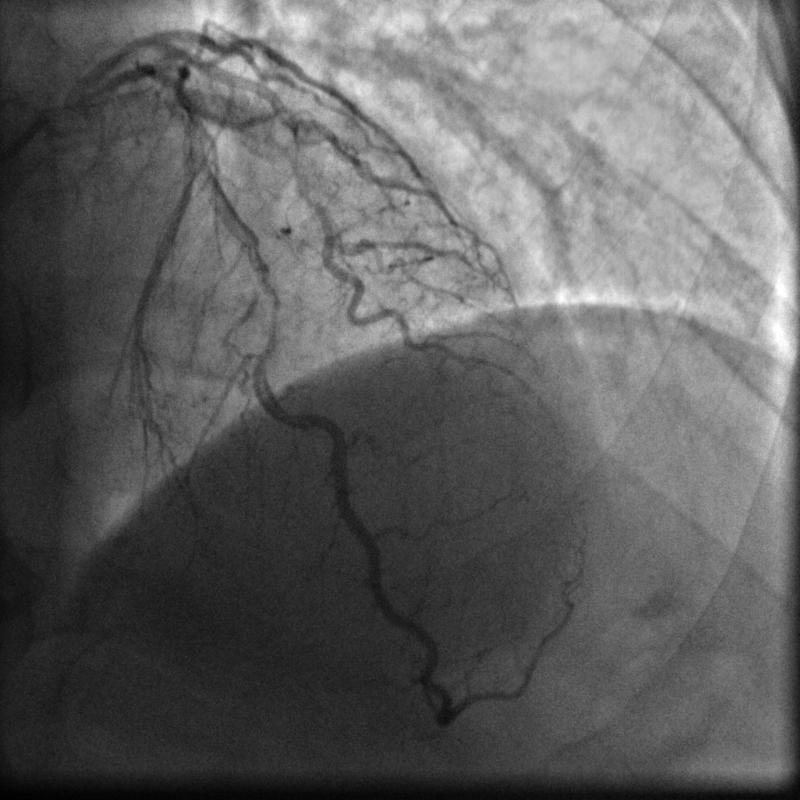Stenosis: (250, 272, 281, 356)
